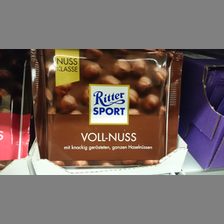chocolate: (30, 49, 185, 166)
